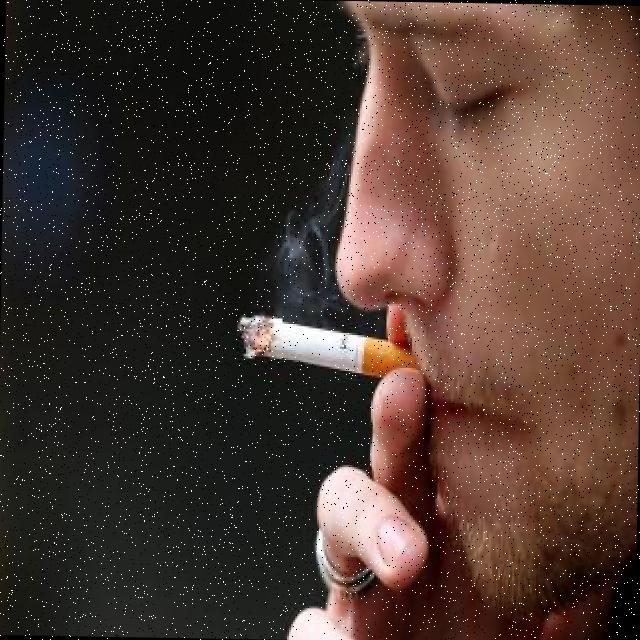fire: (236, 304, 282, 366)
